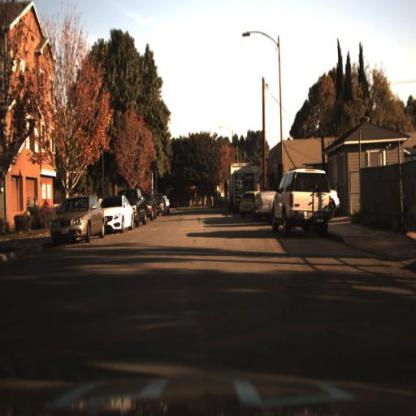car: (265, 164, 336, 242), (49, 191, 104, 246), (100, 193, 136, 239), (102, 191, 134, 236), (231, 166, 255, 215), (123, 185, 146, 229), (134, 188, 148, 230), (254, 189, 273, 216), (146, 184, 157, 226), (239, 190, 253, 216), (156, 188, 167, 219)
